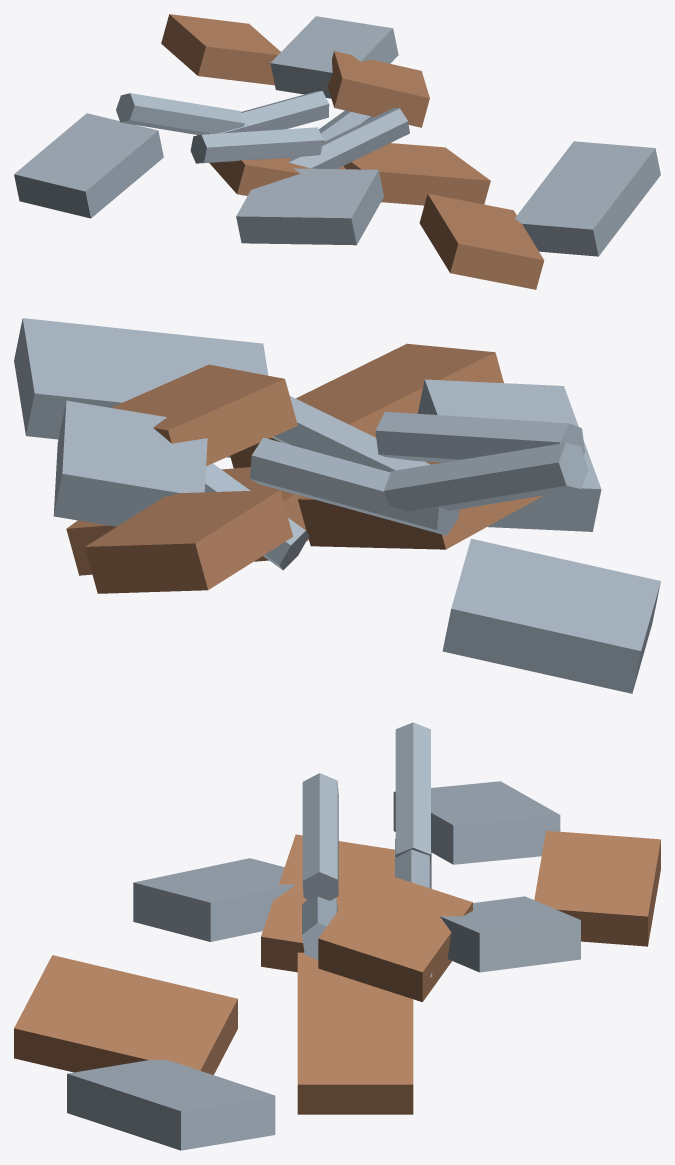
The model's file is scrap_pile.glb.
3 views of the same model, one above another, from view 1: azimuth 30°, elevation 25°; view 2: azimuth 150°, elevation 25°; view 3: azimuth 270°, elevation 25° (orthographic). The views are drawn at different scales.
Visible parts, largest first — view 1: scrap-pile; view 2: scrap-pile; view 3: scrap-pile.
Part boxes in pixels (box(x1,y1,x2,y2)): scrap-pile: box(14, 14, 660, 289); scrap-pile: box(14, 318, 660, 693); scrap-pile: box(14, 722, 660, 1150).
Bounding box in the file's own units: 1.32 × 0.385 × 1.12.
